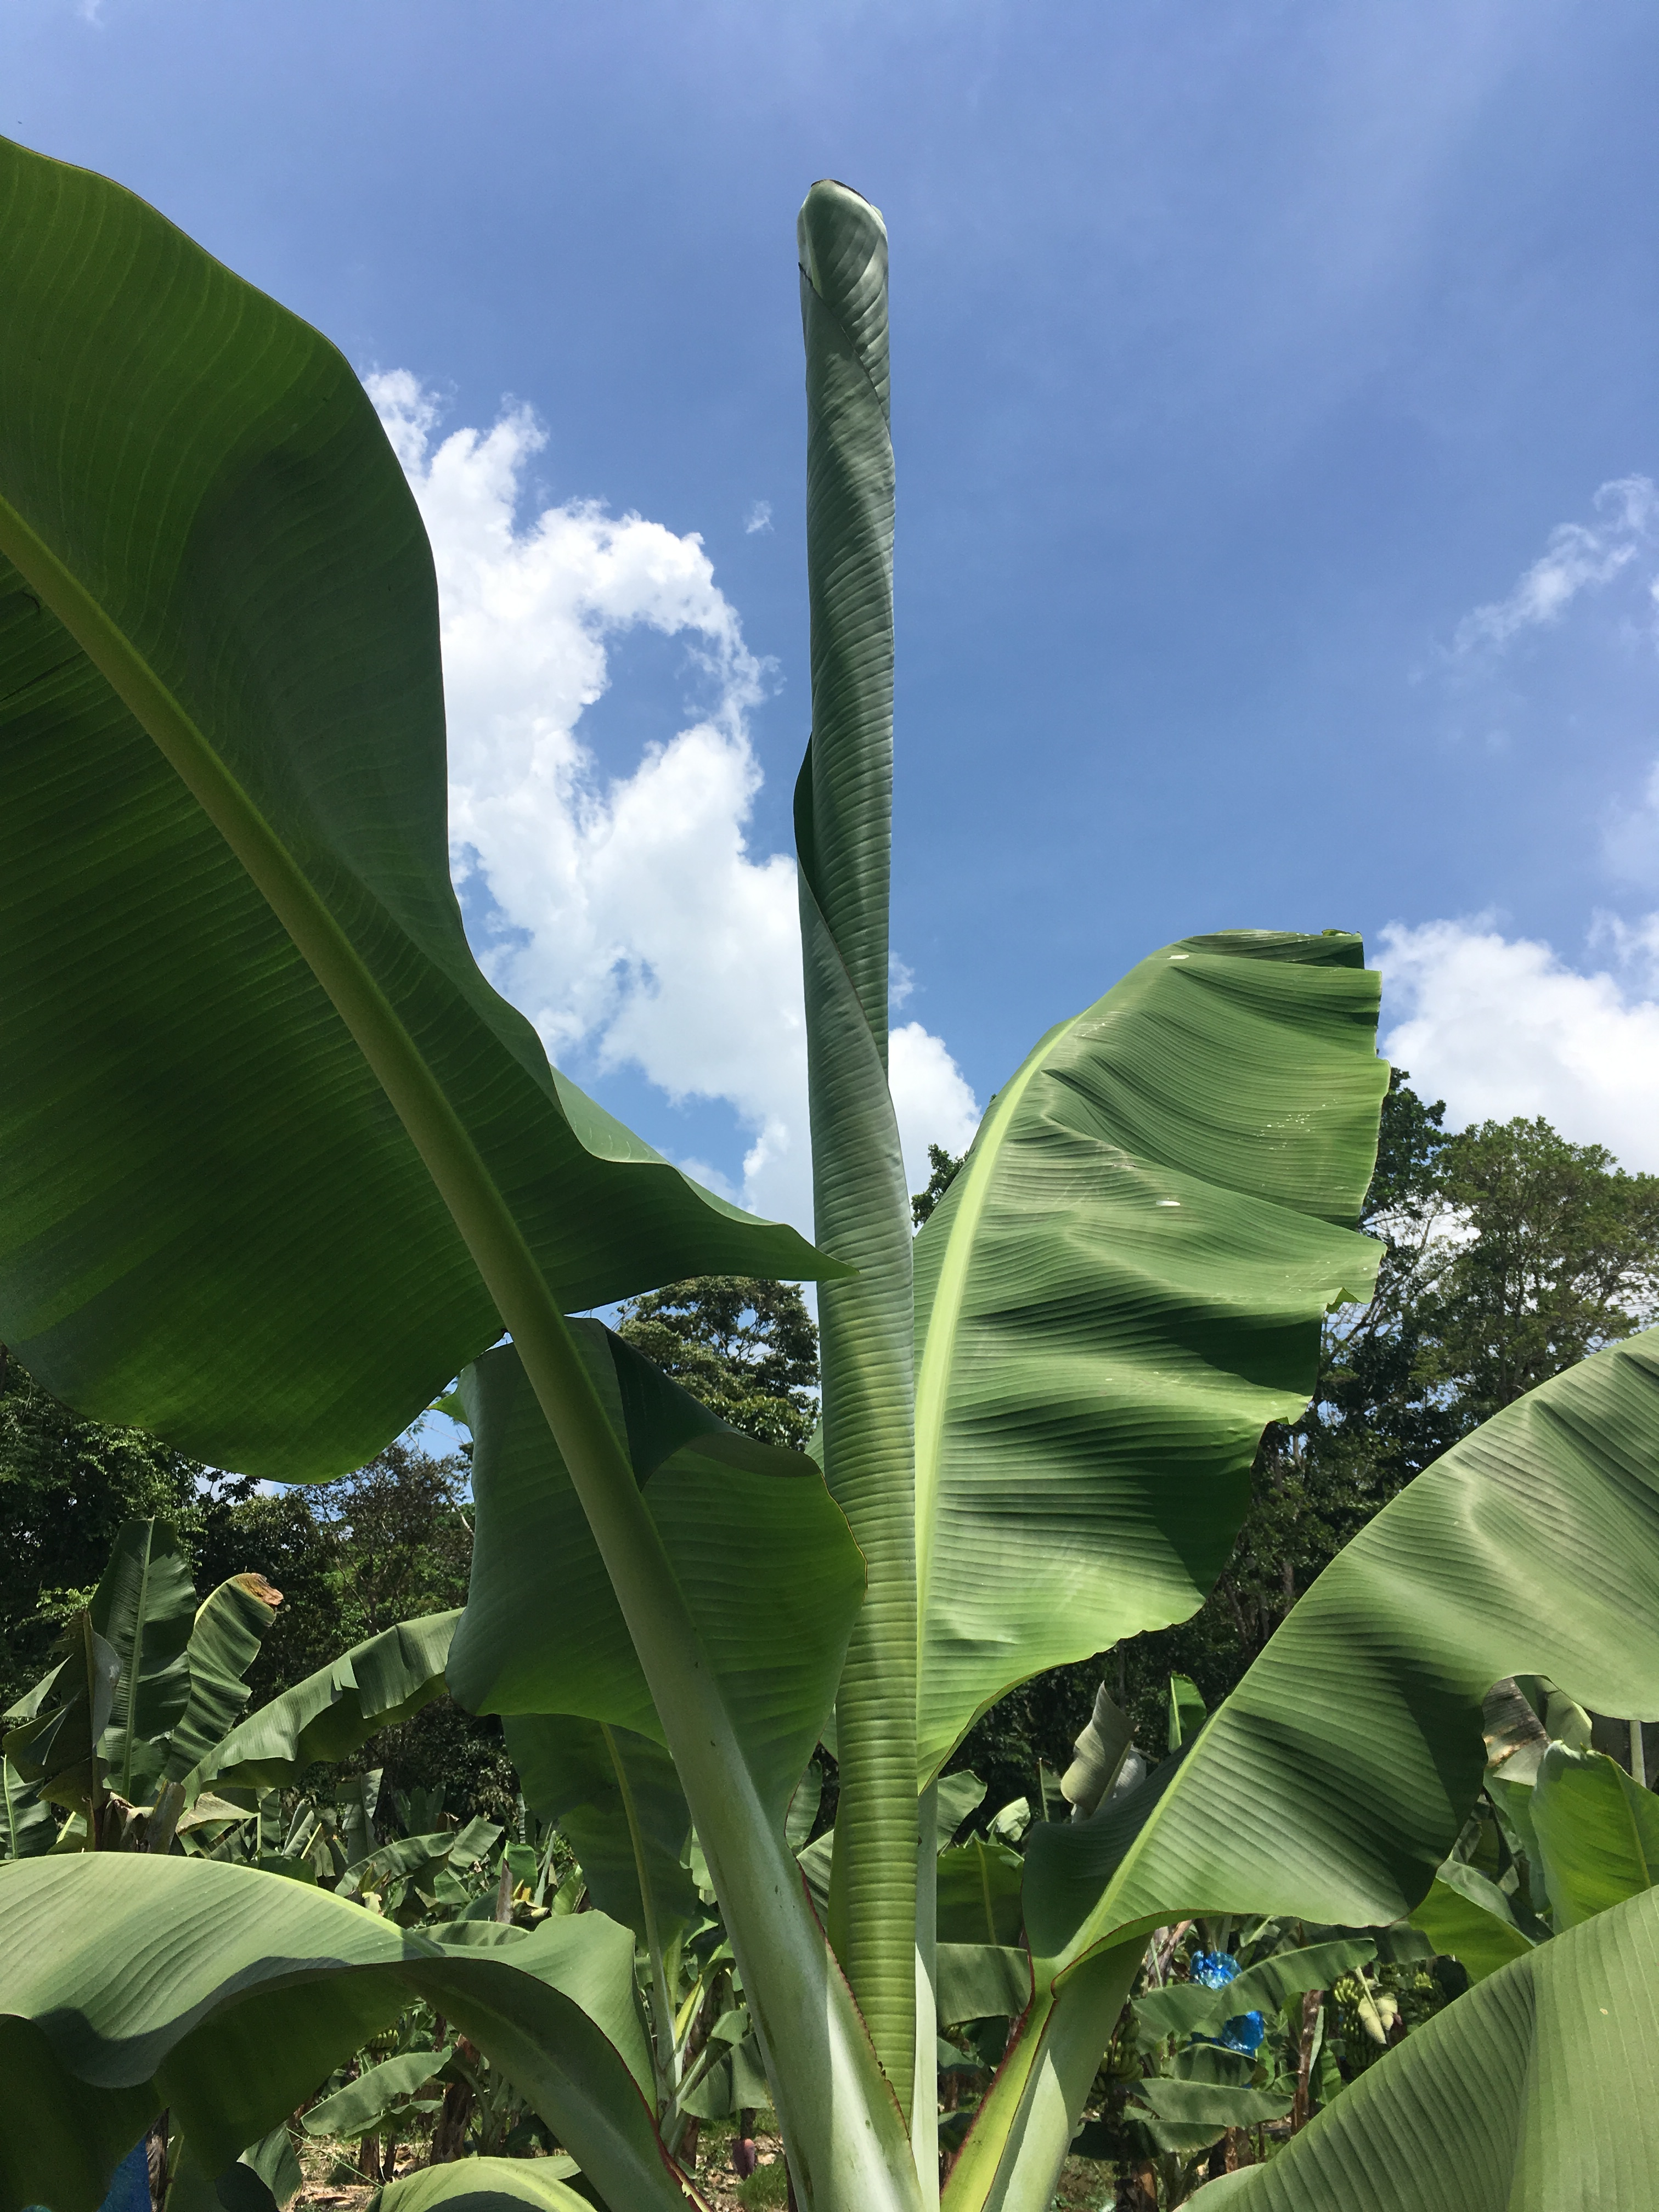candleleafs: (788, 185, 922, 2120)
